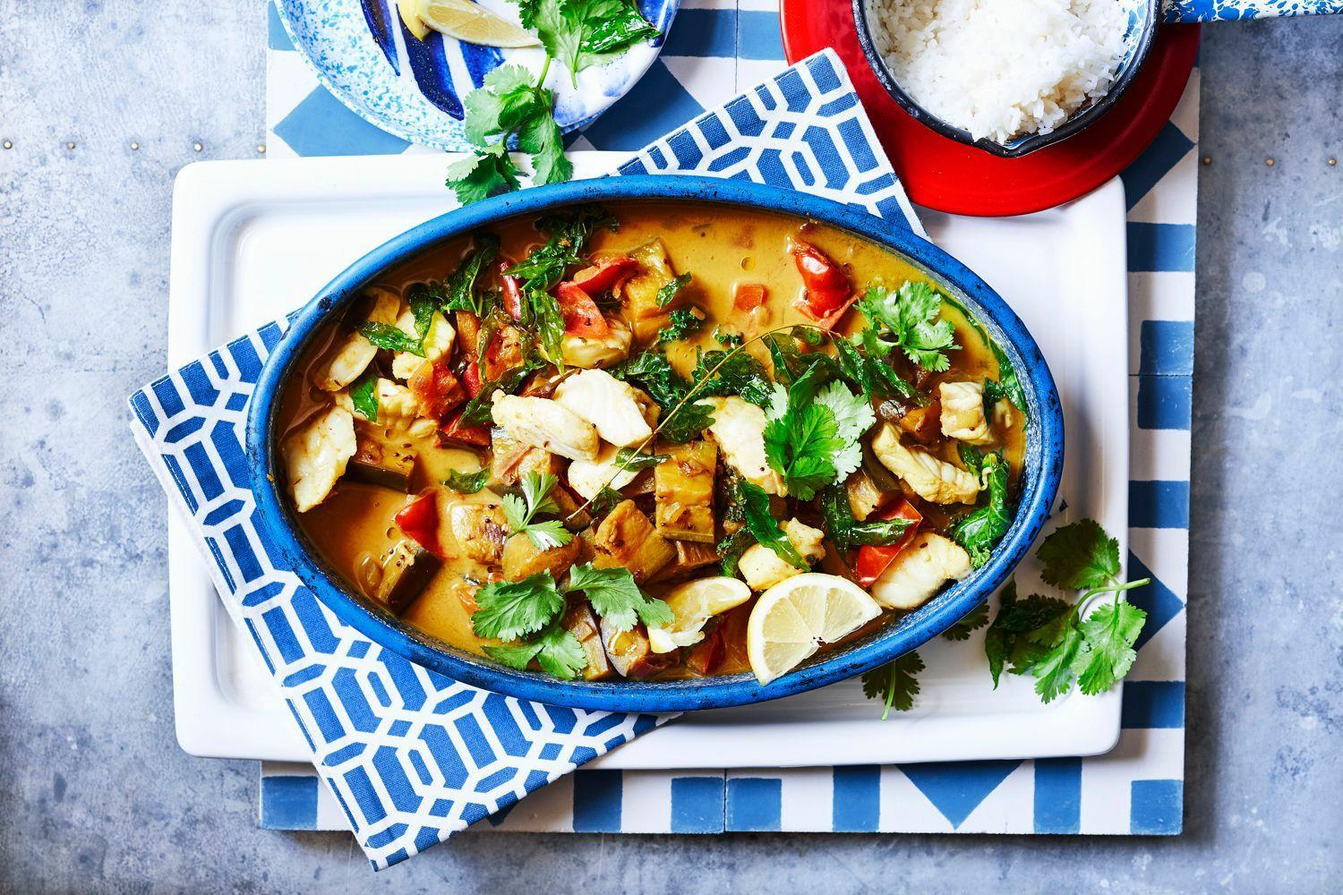FishCurry: (275, 197, 1033, 683)
WhiteRice: (865, 0, 1137, 142)
